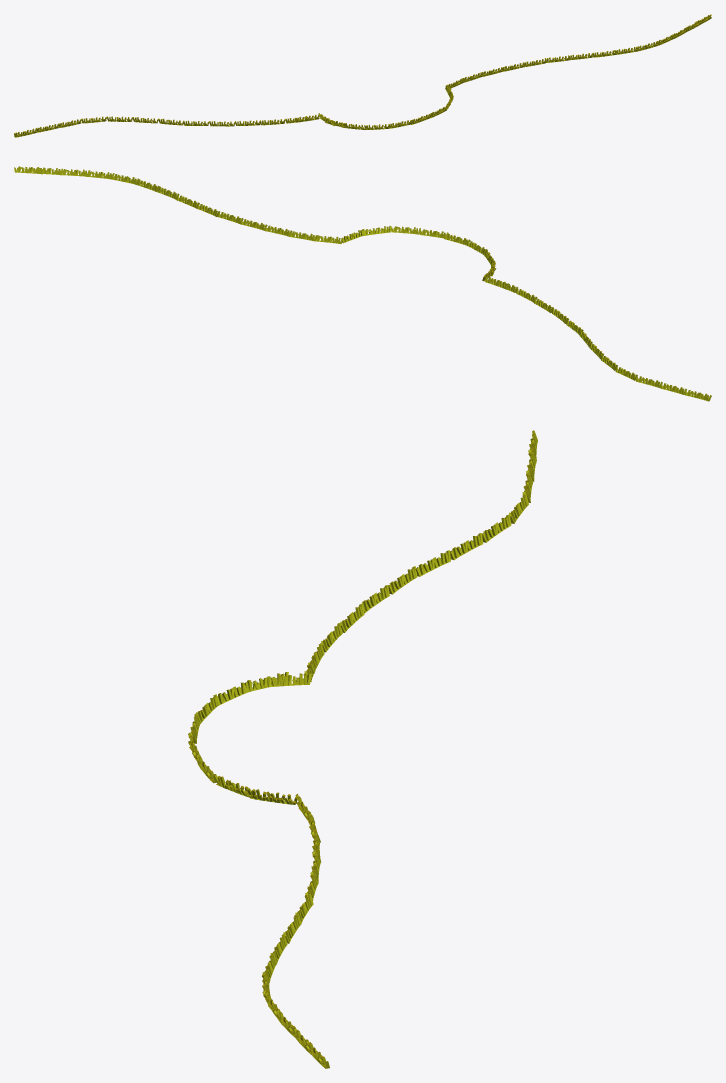
Rendered from grass.glb.
3 views of the same model, one above another, from view 1: azimuth 30°, elevation 25°; view 2: azimuth 150°, elevation 25°; view 3: azimuth 270°, elevation 25° (orthographic). The views are drawn at different scales.
Visible parts, largest first — view 1: Cube_096_000.003; view 2: Cube_096_000.003; view 3: Cube_096_000.003.
Boxes of the visible parts, x1=… form: Cube_096_000.003: x1=14, y1=14, x2=711, y2=137; Cube_096_000.003: x1=14, y1=166, x2=711, y2=401; Cube_096_000.003: x1=188, y1=430, x2=537, y2=1068.
Bounding box in the file's own units: 42.11 × 0.3272 × 9.89.
